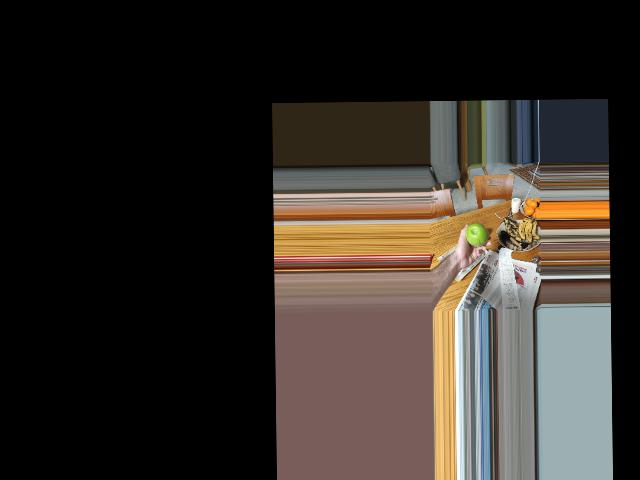apple: (465, 222, 489, 246)
